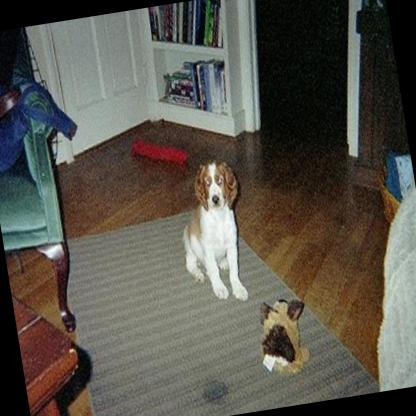Welsh_springer_spaniel: (169, 152, 255, 308)
